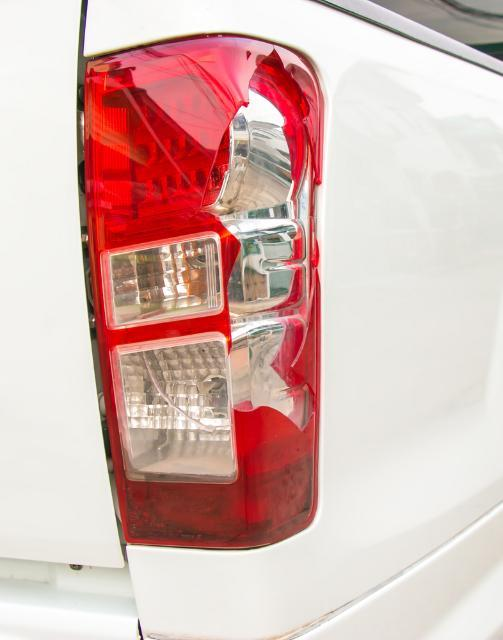lamp broken: (83, 34, 325, 549)
